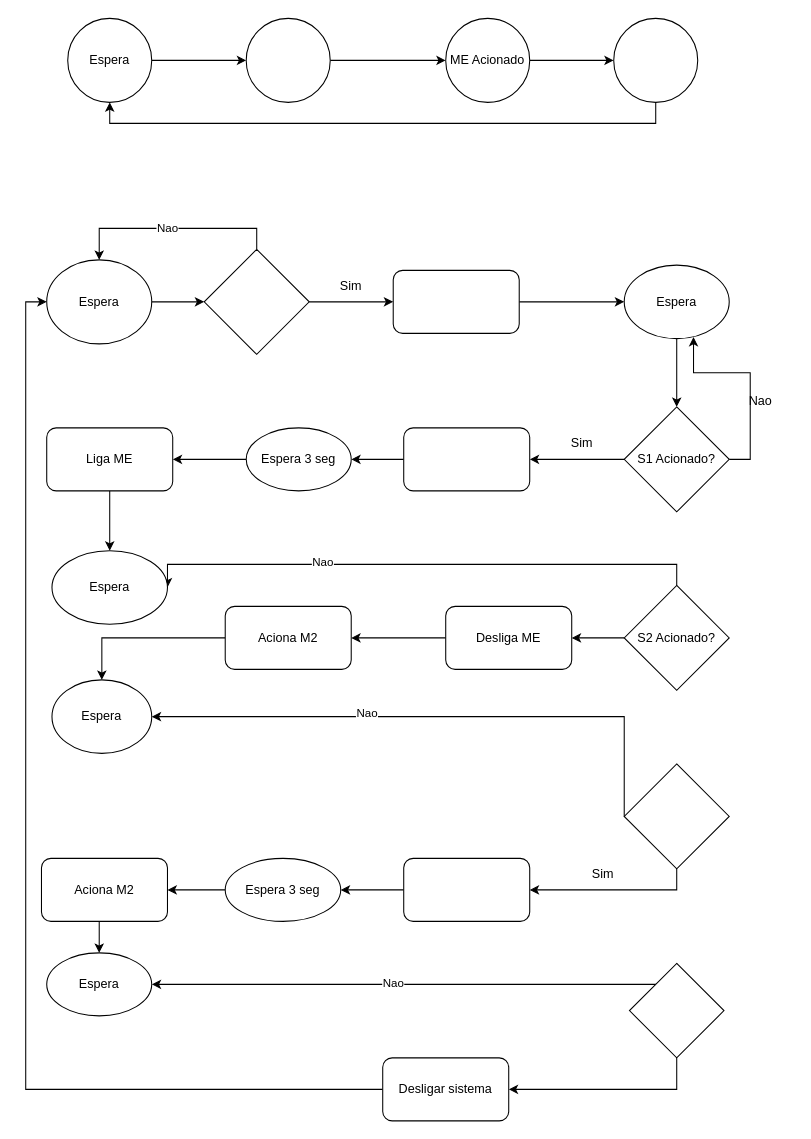
This 811x1139 diagram has some shape labels left out. The shapes that lost their labels are listed below. From the top down, each one's box as (x1, y1, x2, y2) in pixels, then its label:
(245, 17, 330, 102): M1 Acionado
(613, 17, 698, 102): M2 Acionado
(203, 248, 309, 354): Liga pressionado?
(392, 269, 519, 333): Liga M1
(403, 427, 530, 491): Desliga M1
(623, 763, 729, 869): S3 Acionado?
(403, 857, 530, 921): Desliga M2
(628, 962, 724, 1058): S4 Acionado?
